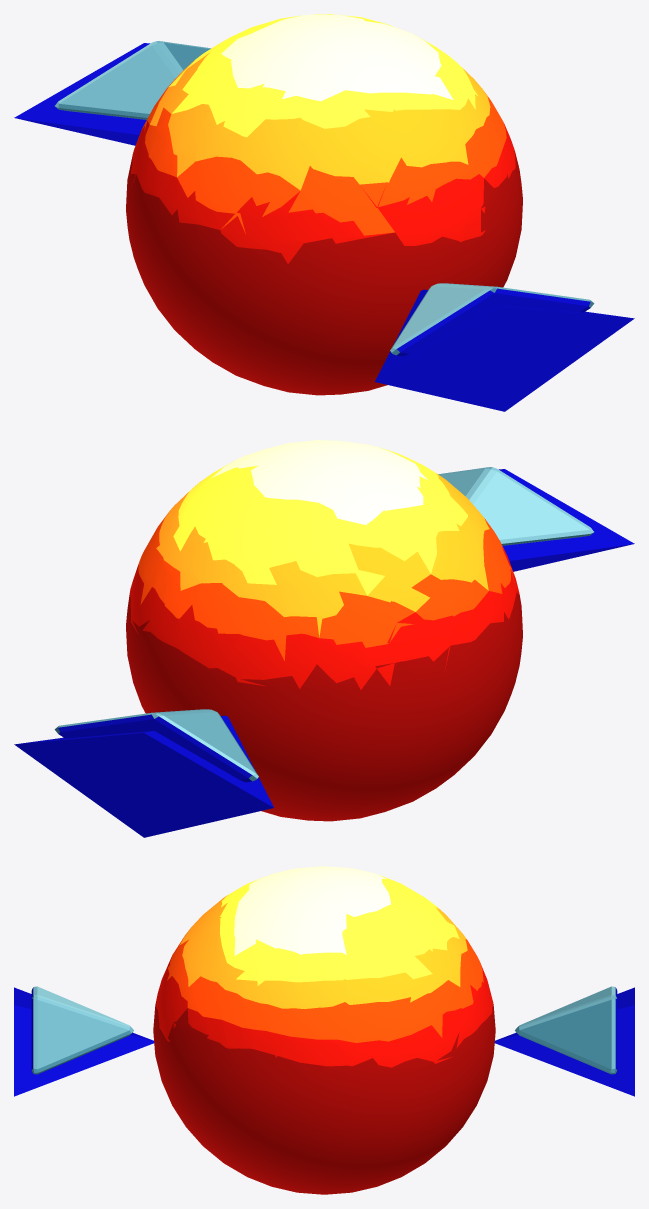
File: orbiter.glb
The picture shows the model from 3 angles, top to bottom: view 1: azimuth 30°, elevation 25°; view 2: azimuth 150°, elevation 25°; view 3: azimuth 270°, elevation 25°; orthographic projection. The views are drawn at different scales.
Visible parts, largest first — view 1: orbiter; view 2: orbiter; view 3: orbiter.
Boxes of the visible parts, bbox=[...] form: orbiter: bbox=[14, 14, 634, 411]; orbiter: bbox=[14, 440, 634, 837]; orbiter: bbox=[14, 866, 634, 1194].
Size of the model in its own units: 12.1 by 11.5 by 21.94.
